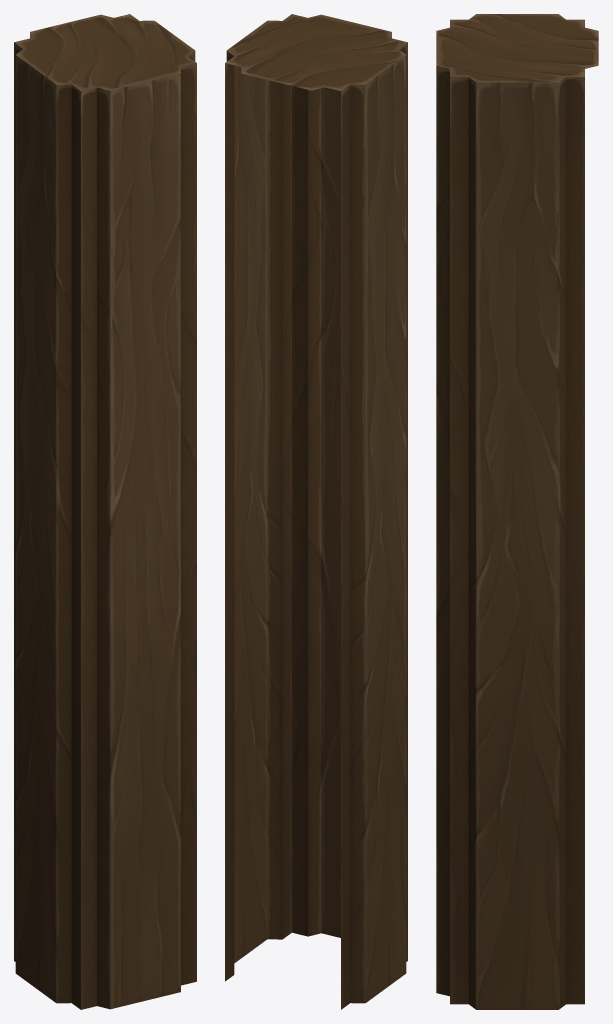
The model's file is Pillar_3_2.FBX.
The picture shows the model from 3 angles, left to right: view 1: azimuth 30°, elevation 25°; view 2: azimuth 150°, elevation 25°; view 3: azimuth 270°, elevation 25°; orthographic projection.
Visible parts, largest first — view 1: Pillar_3_2; view 2: Pillar_3_2; view 3: Pillar_3_2.
Boxes of the visible parts, <box> form: Pillar_3_2: <box>14,14,196,1009</box>; Pillar_3_2: <box>225,14,407,1009</box>; Pillar_3_2: <box>436,14,598,1009</box>.
Bounding box in the file's own units: 491 × 3100 × 491.
